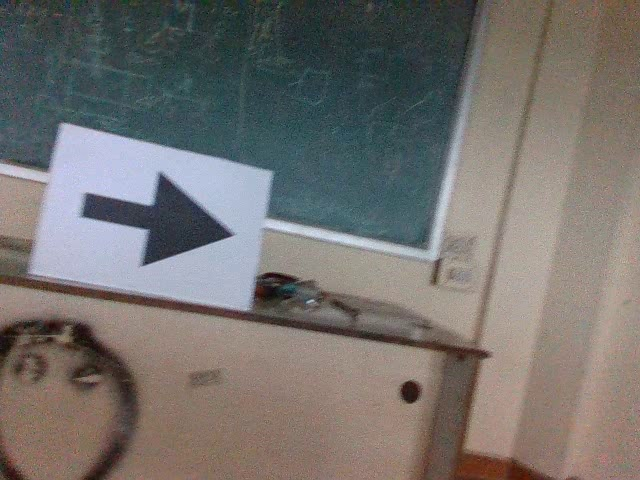Right: (75, 165, 243, 275)
